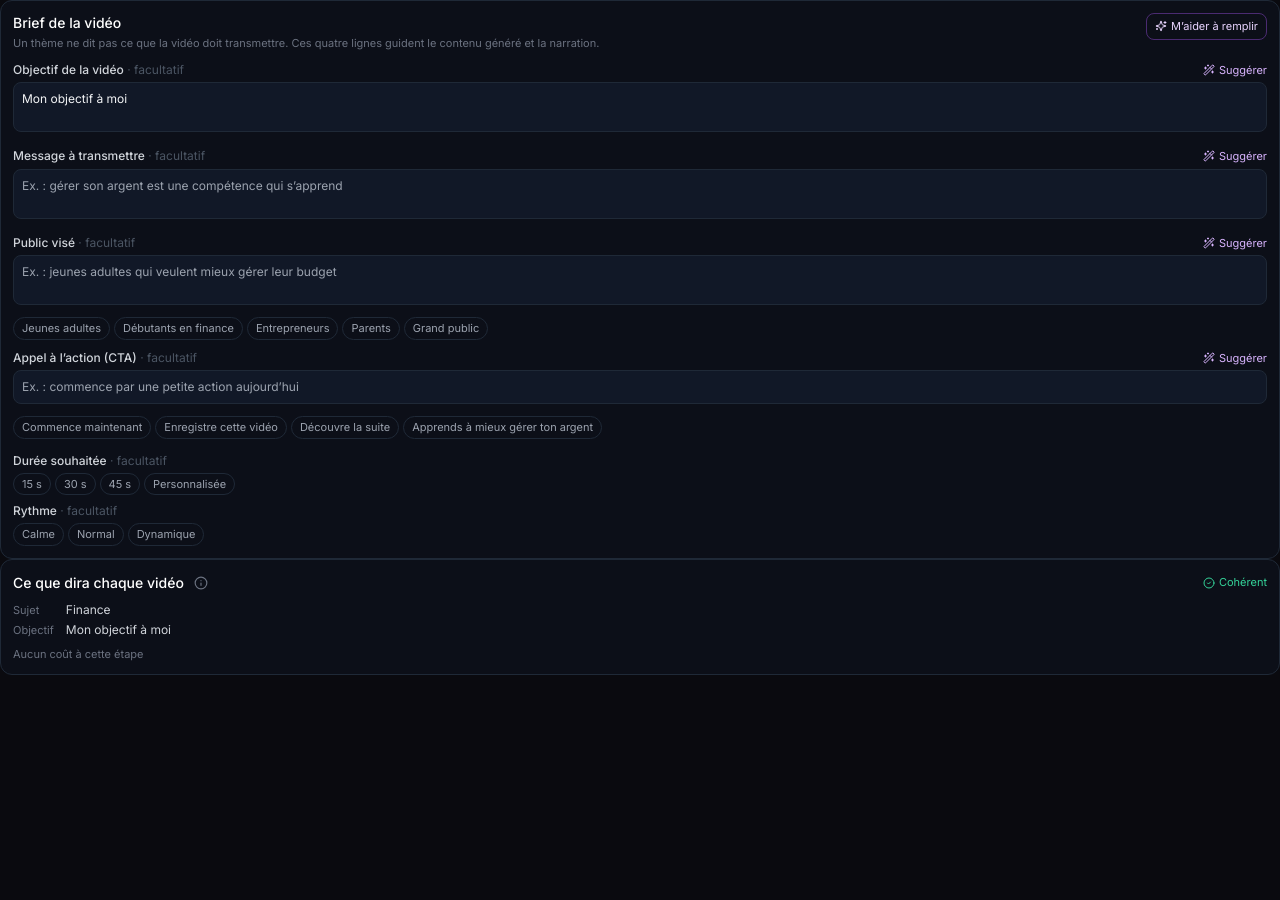
it: UI — Brief récurrent › E. « M’aider à remplir » ne touche pas aux textes saisis
Click the button "M’aider à remplir": {"x": 1207, "y": 26} [1146,13,1267,40]
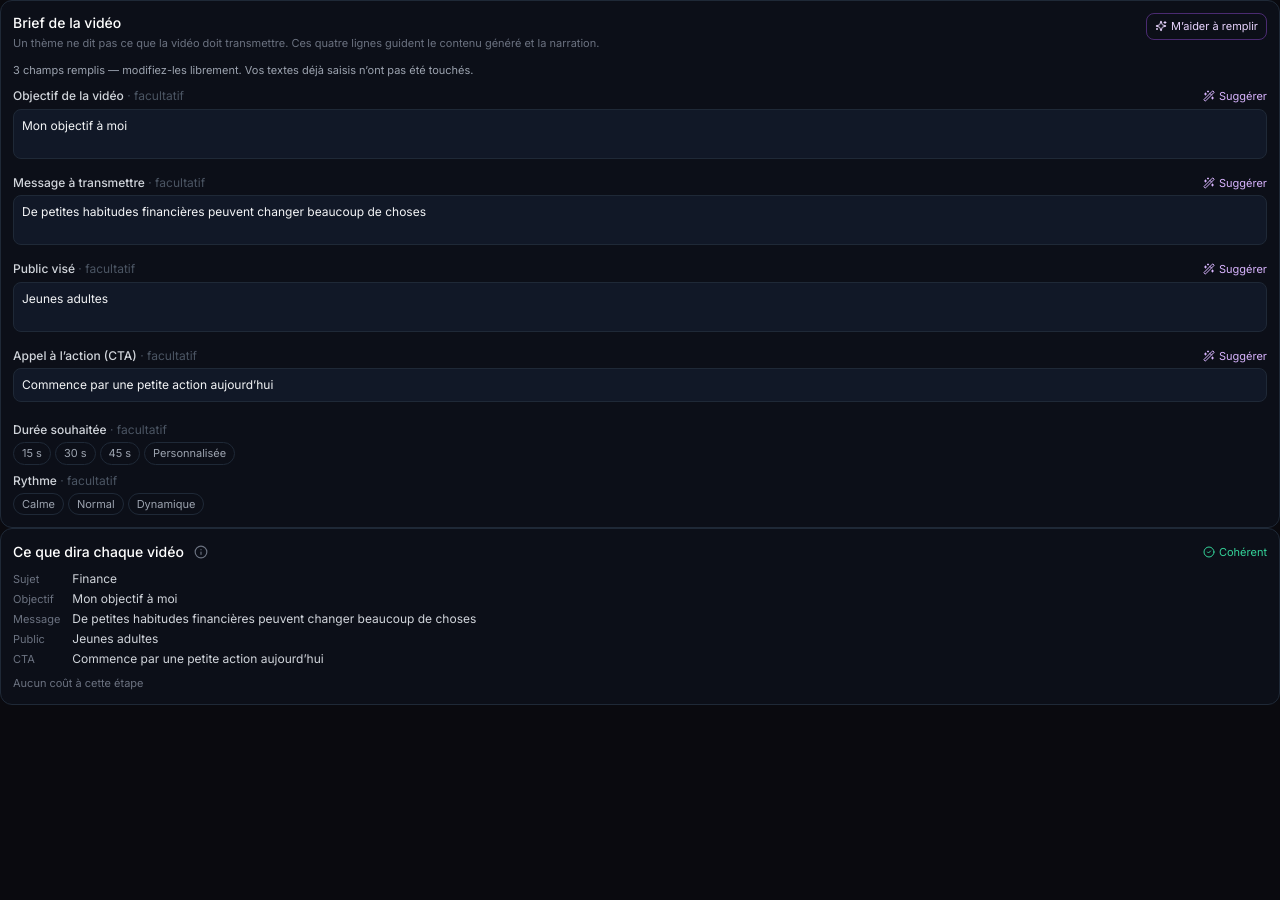
Expected: the text box labelled "Objectif de la vidéo · facultatif" holds "Mon objectif à moi", [13,108,1267,158]
Now the text box labelled "Public visé · facultatif" holds "Jeunes adultes", box [13,282,1267,332]
Now the message shows "n’ont pas été touchés", box [13,62,473,76]
